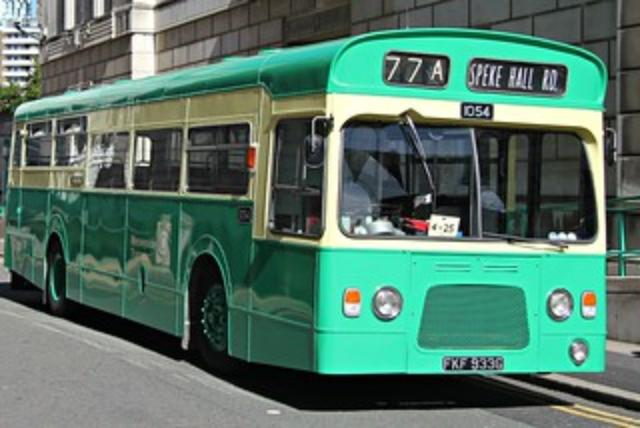bus: (2, 24, 608, 376)
